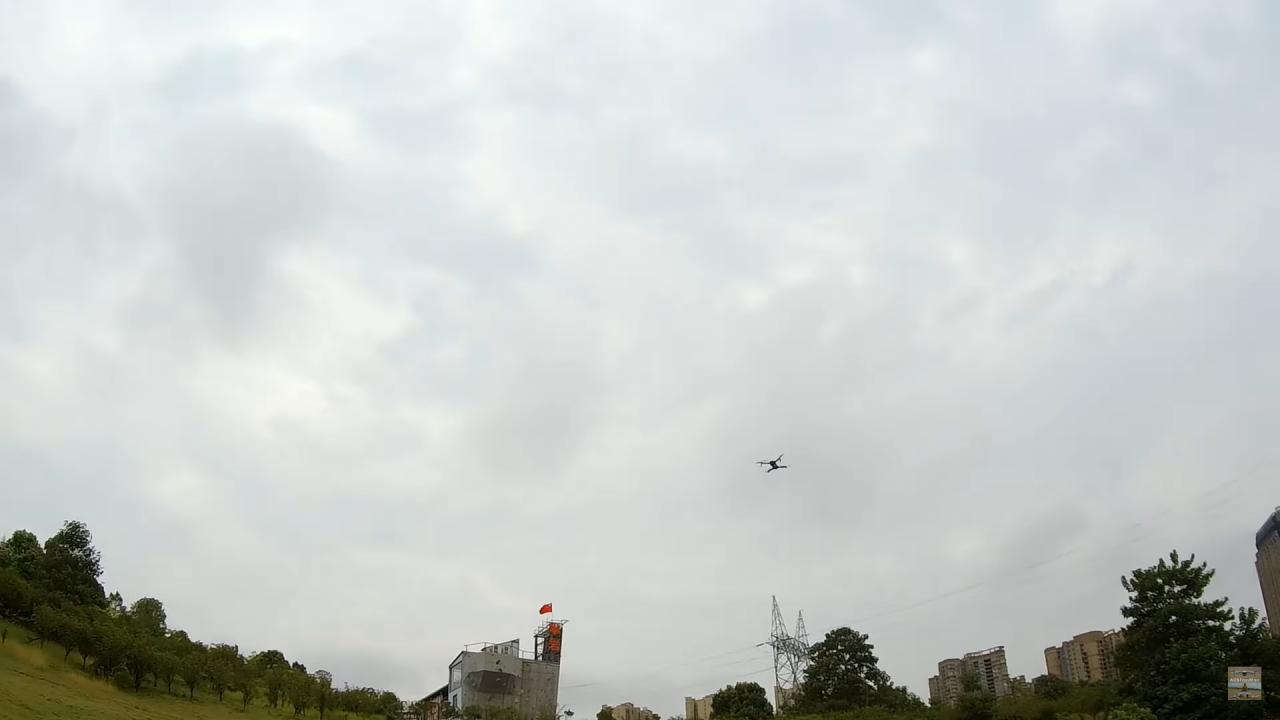Drone: (750, 447, 796, 481)
